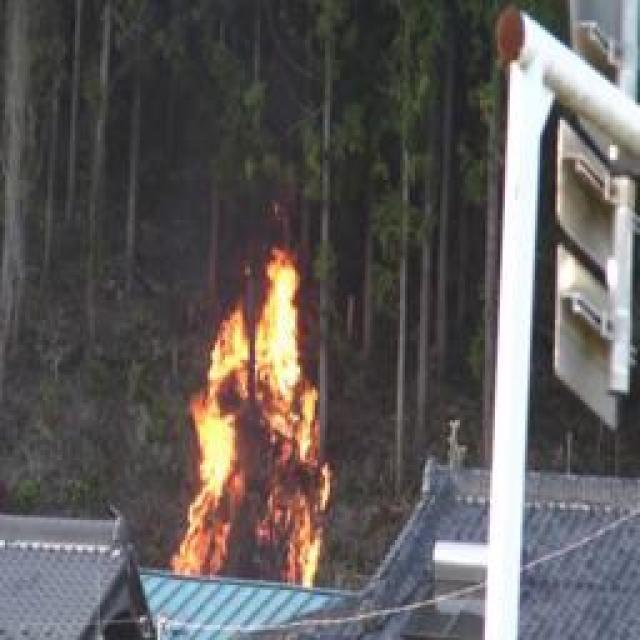Fire: (169, 250, 330, 591)
